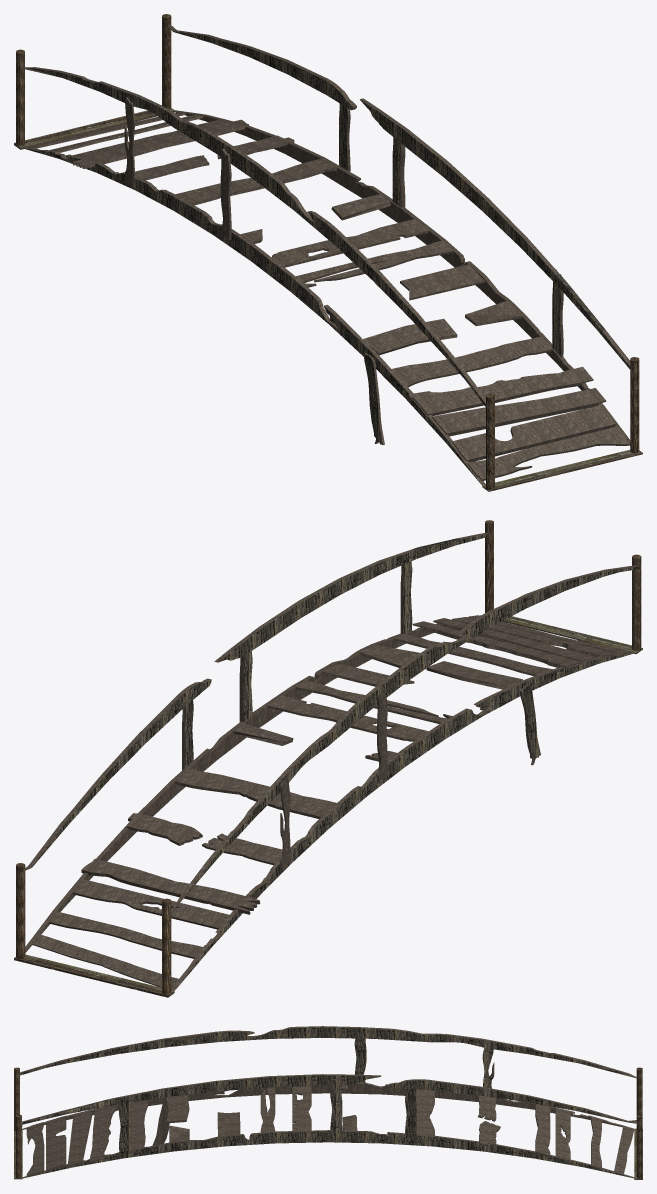
File: Wooden Bridge.dae
3 renders of one model, top to bottom at view 1: azimuth 30°, elevation 25°; view 2: azimuth 150°, elevation 25°; view 3: azimuth 270°, elevation 25°, orthographic. The views are drawn at different scales.
Parts seen in each view (by area): view 1: SketchUp (×18); view 2: SketchUp (×17); view 3: SketchUp (×16).
Boxes of the visible parts, bbox=[...] form: SketchUp (×18): bbox=[14, 14, 642, 491]; SketchUp (×17): bbox=[14, 520, 642, 995]; SketchUp (×16): bbox=[14, 1026, 642, 1179].
Bounding box in the file's own units: 260 × 1232 × 271.
Materials: 4 (4 with a texture image).
